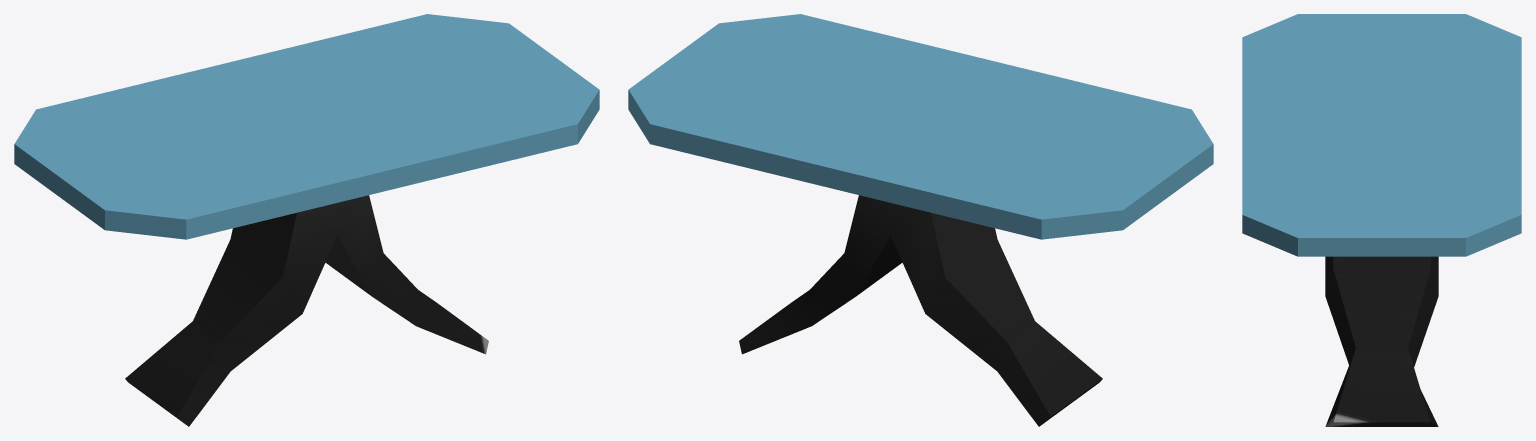
The model's file is tavolino_1.fbx.
3 views of the same model, side by side, from view 1: azimuth 30°, elevation 25°; view 2: azimuth 150°, elevation 25°; view 3: azimuth 270°, elevation 25° (orthographic). The views are drawn at different scales.
Parts seen in each view (by area): view 1: SM_tavolino1; view 2: SM_tavolino1; view 3: SM_tavolino1.
Part boxes in pixels (left/top/right/bottom): SM_tavolino1: left=14, top=14, right=599, bottom=426; SM_tavolino1: left=628, top=14, right=1213, bottom=426; SM_tavolino1: left=1242, top=14, right=1521, bottom=426.
Bounding box in the file's own units: 316 × 153 × 166.
